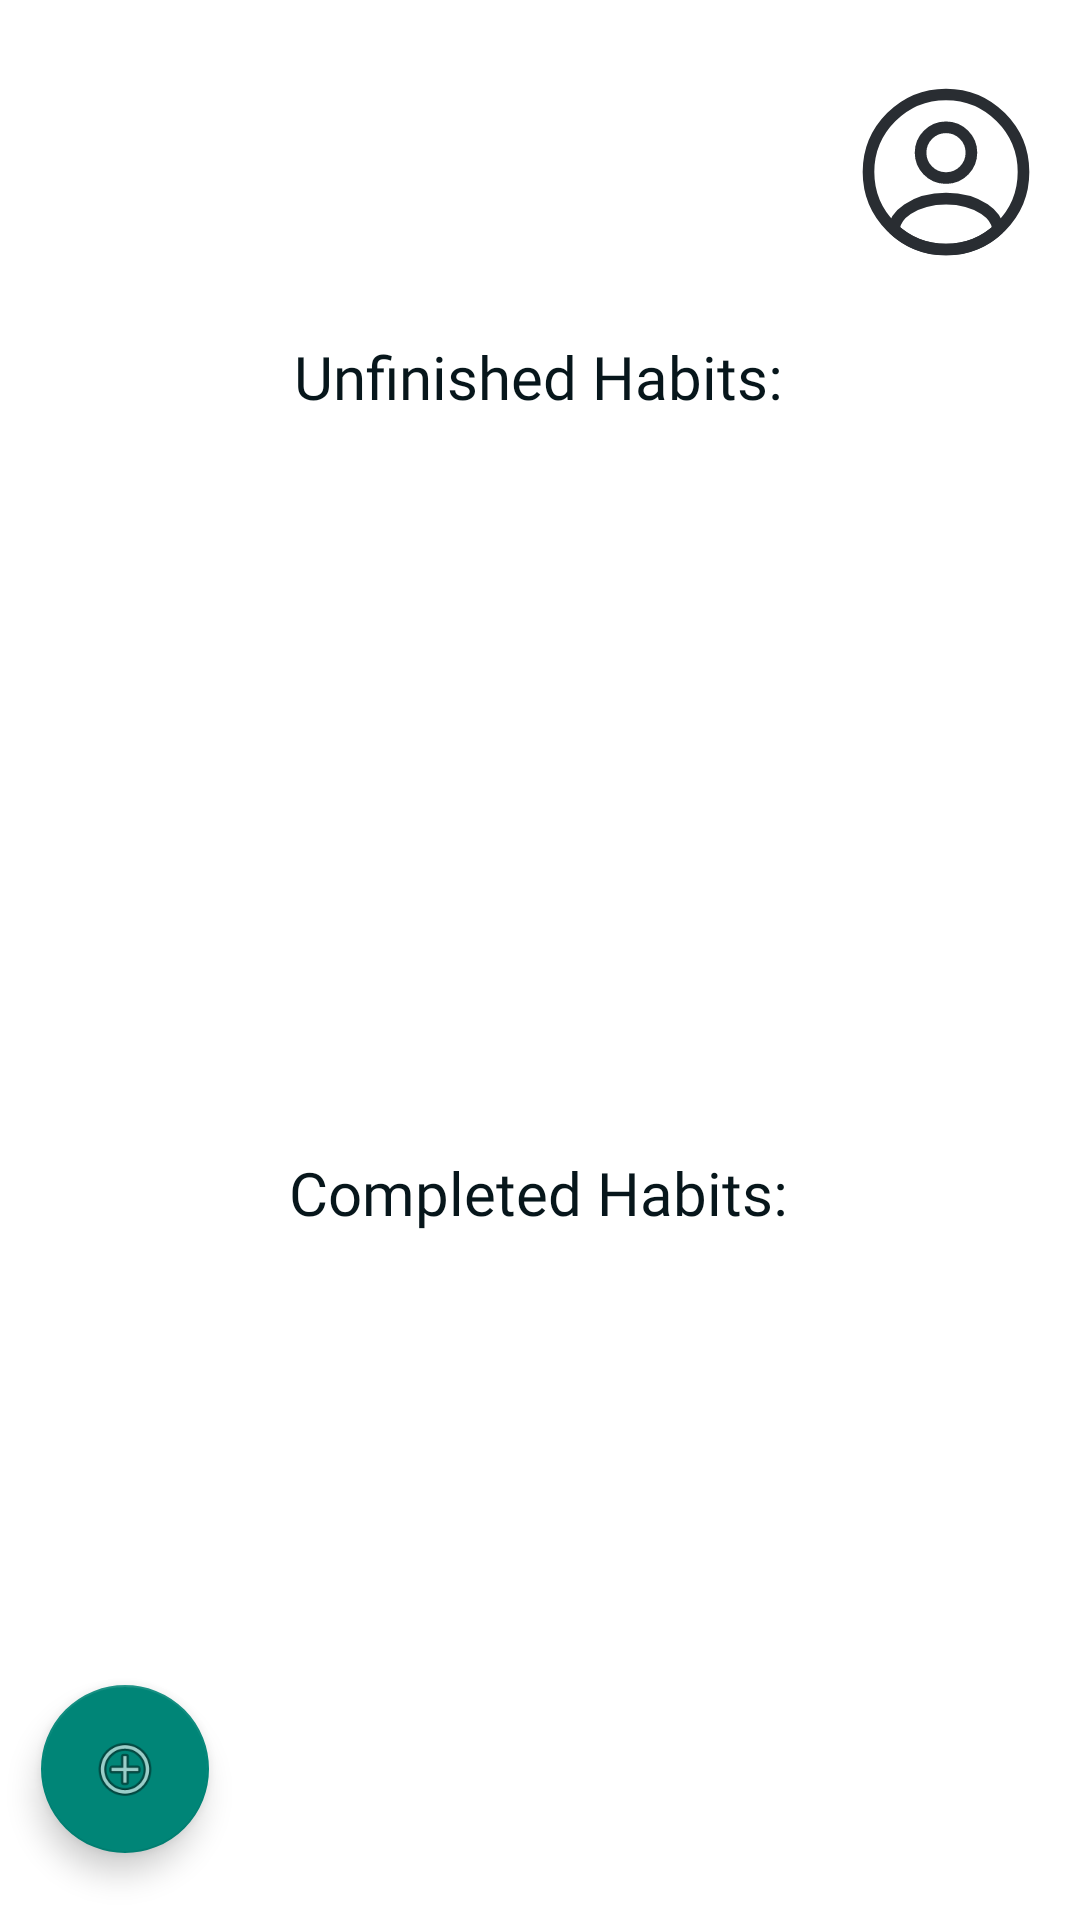

Screen size 1080 x 1920. Icon name, then its box in pixels as detection(x1, y1, x2, y2):
add: detection(41, 1685, 209, 1853)
profile: detection(862, 88, 1030, 256)
